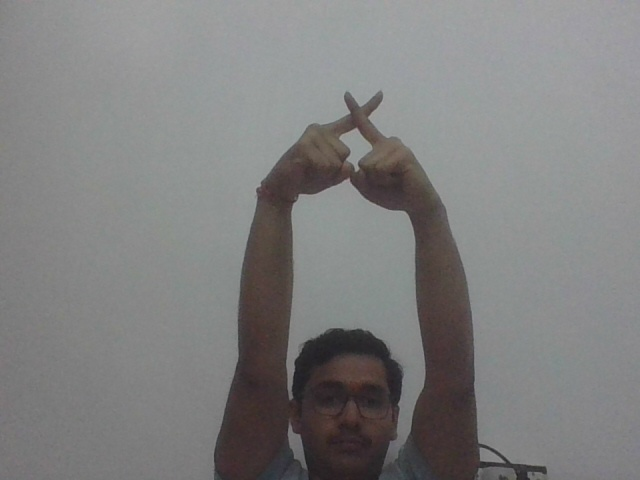X: (293, 87, 417, 213)
